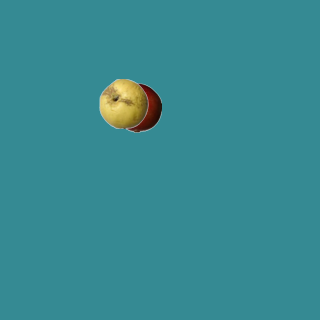Apple Braeburn: (111, 82, 161, 132)
Apple Golden 1: (98, 78, 148, 128)
